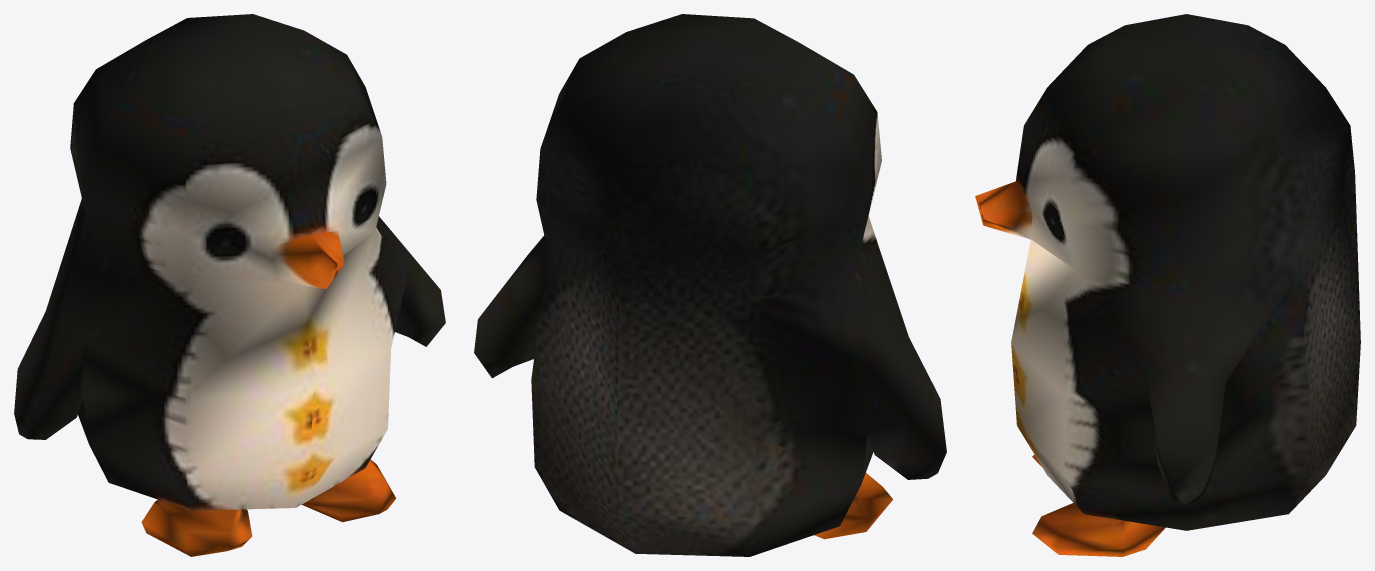
Rendered from penguin-felt-01-43-star-button.gltf.
The picture shows the model from 3 angles, left to right: view 1: azimuth 30°, elevation 25°; view 2: azimuth 150°, elevation 25°; view 3: azimuth 270°, elevation 25°; orthographic projection. The views are drawn at different scales.
Visible parts, largest first — view 1: penguin-felt-01-43-star-button; view 2: penguin-felt-01-43-star-button; view 3: penguin-felt-01-43-star-button.
Part boxes in pixels (x1=…): penguin-felt-01-43-star-button: x1=14, y1=14, x2=445, y2=556; penguin-felt-01-43-star-button: x1=474, y1=14, x2=946, y2=556; penguin-felt-01-43-star-button: x1=975, y1=14, x2=1360, y2=556.
Bounding box in the file's own units: 0.2 × 0.2056 × 0.1537.
Materials: 1 (1 with a texture image).
